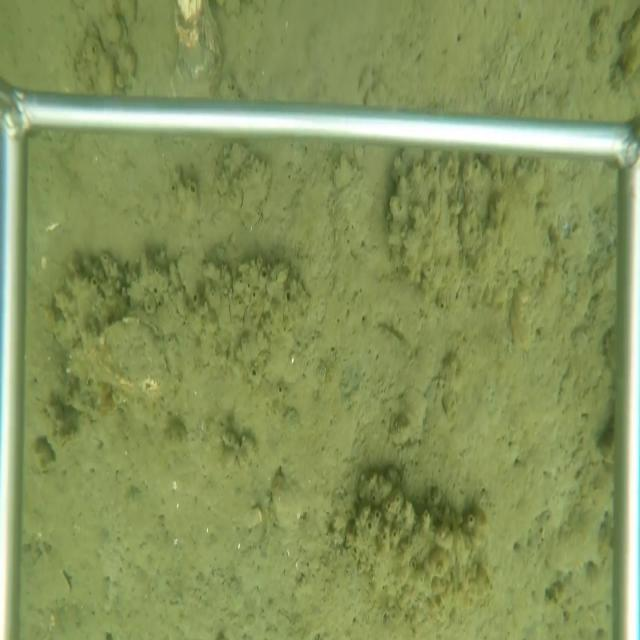Oyster-Indeterminate: (387, 154, 470, 314), (63, 315, 175, 406), (168, 1, 224, 93)
